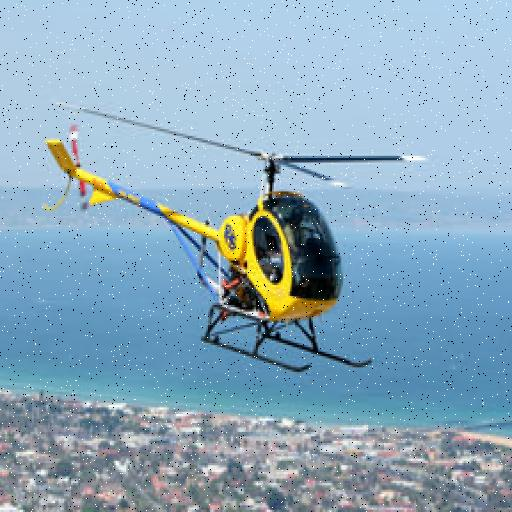helicopter: (42, 99, 431, 375)
